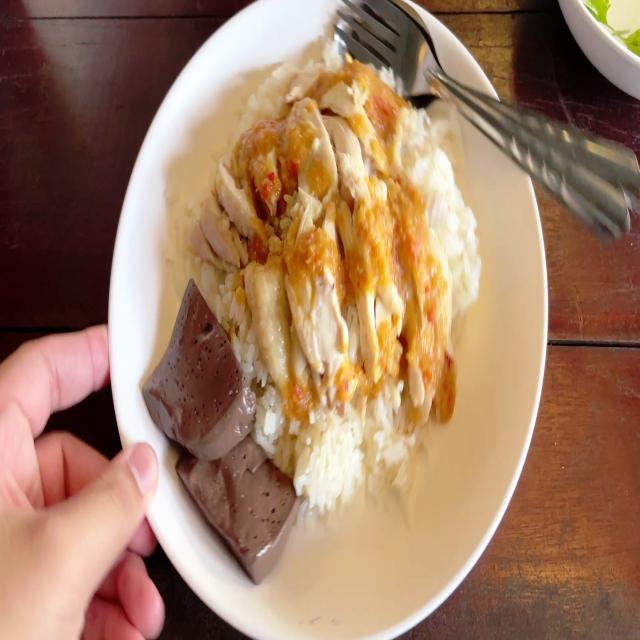boiled_chicken: (218, 81, 425, 372)
boiled_chicken_blood_jelly: (184, 418, 297, 580), (143, 285, 250, 453)
chicken_rice: (147, 41, 486, 598)
